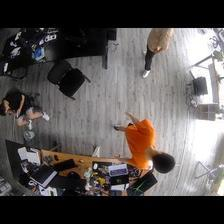normal: (112, 111, 178, 176), (3, 91, 49, 130), (136, 29, 173, 77)
